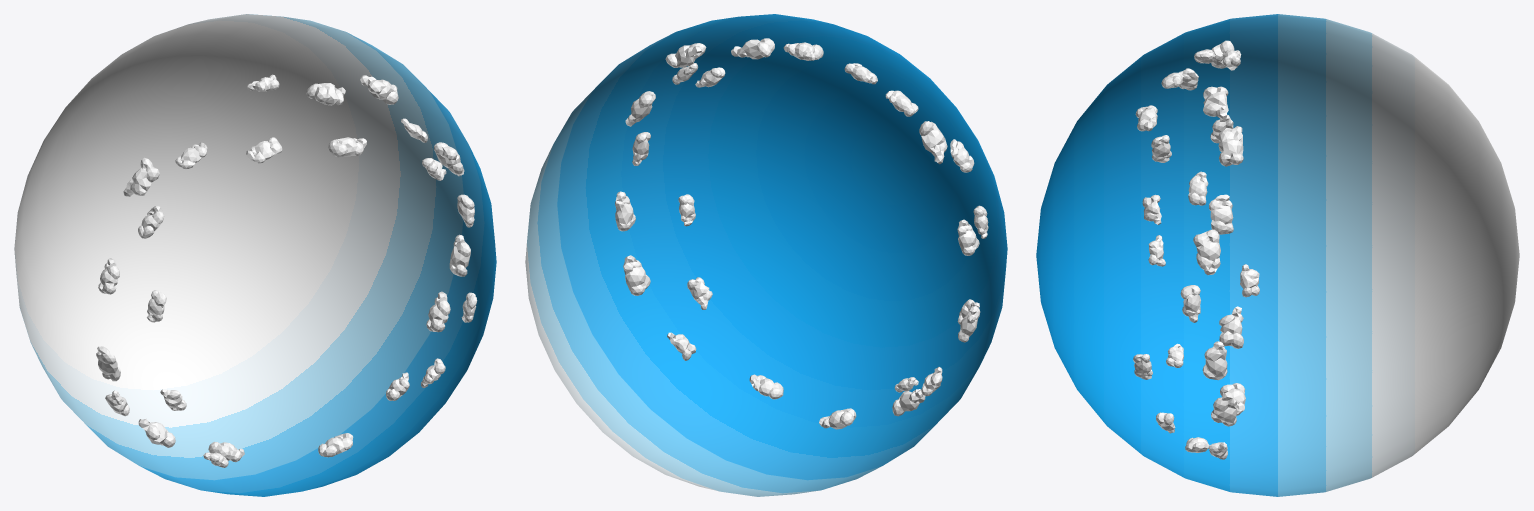
The model's file is background-clouds.glb.
3 views of the same model, side by side, from view 1: azimuth 30°, elevation 25°; view 2: azimuth 150°, elevation 25°; view 3: azimuth 270°, elevation 25° (orthographic).
Parts seen in each view (by area): view 1: background-clouds; view 2: background-clouds; view 3: background-clouds.
Boxes of the visible parts, <box> form: background-clouds: <box>14,14,496,496</box>; background-clouds: <box>525,14,1007,496</box>; background-clouds: <box>1036,14,1519,496</box>.
Size of the model in its own units: 1 by 1 by 1.
Materials: 1 (1 with a texture image).
